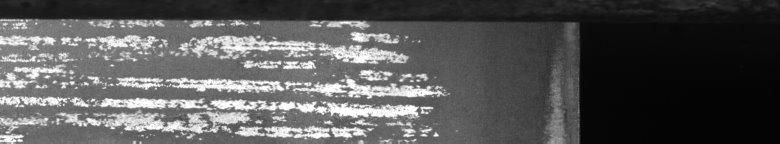kb: (4, 12, 450, 136)
